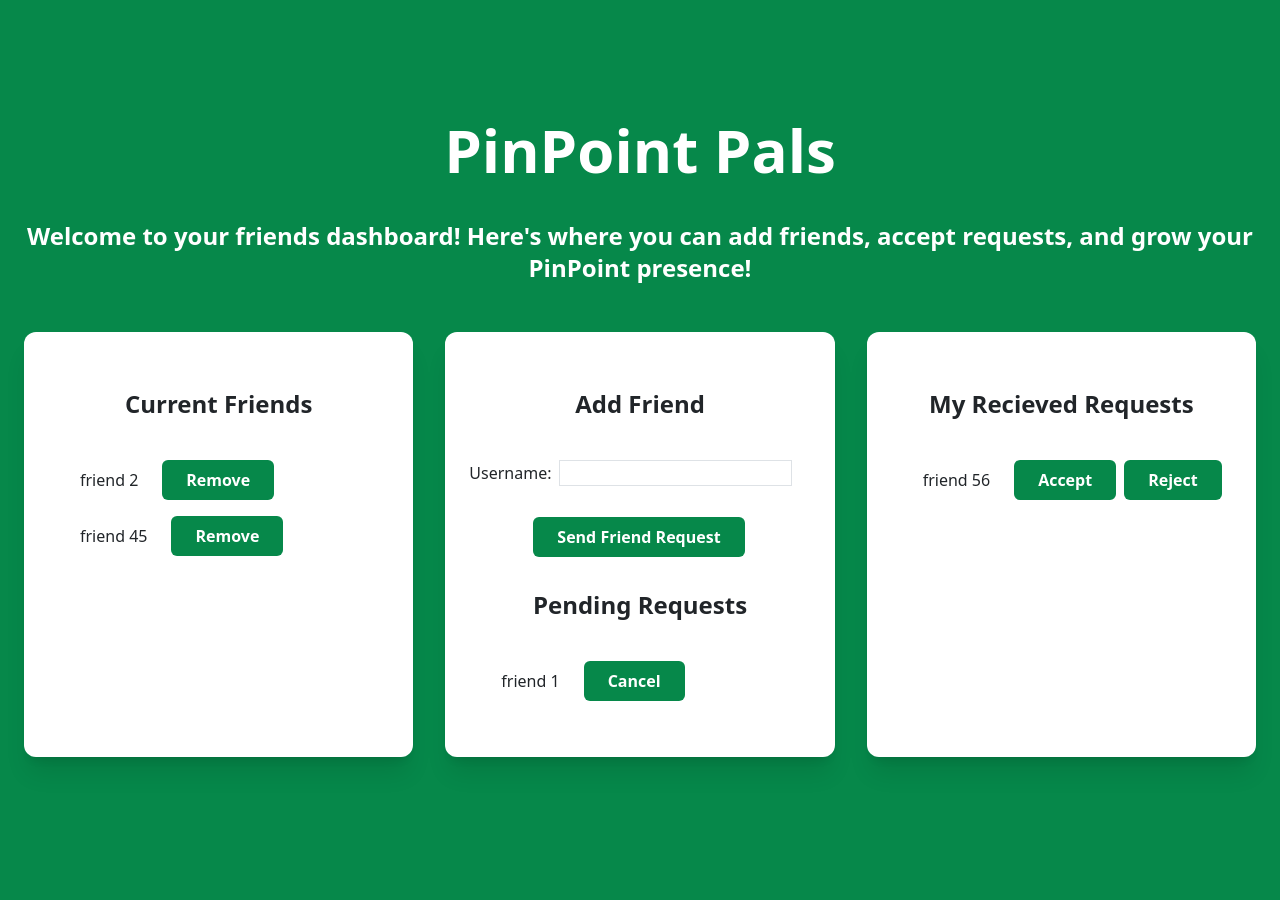
Test: Friends › Cancel outgoing friend request
What coordinates should you click on to do the following:
click the button "Cancel"
I would click on:
 (634, 681)
Its box is [584,661,684,701].
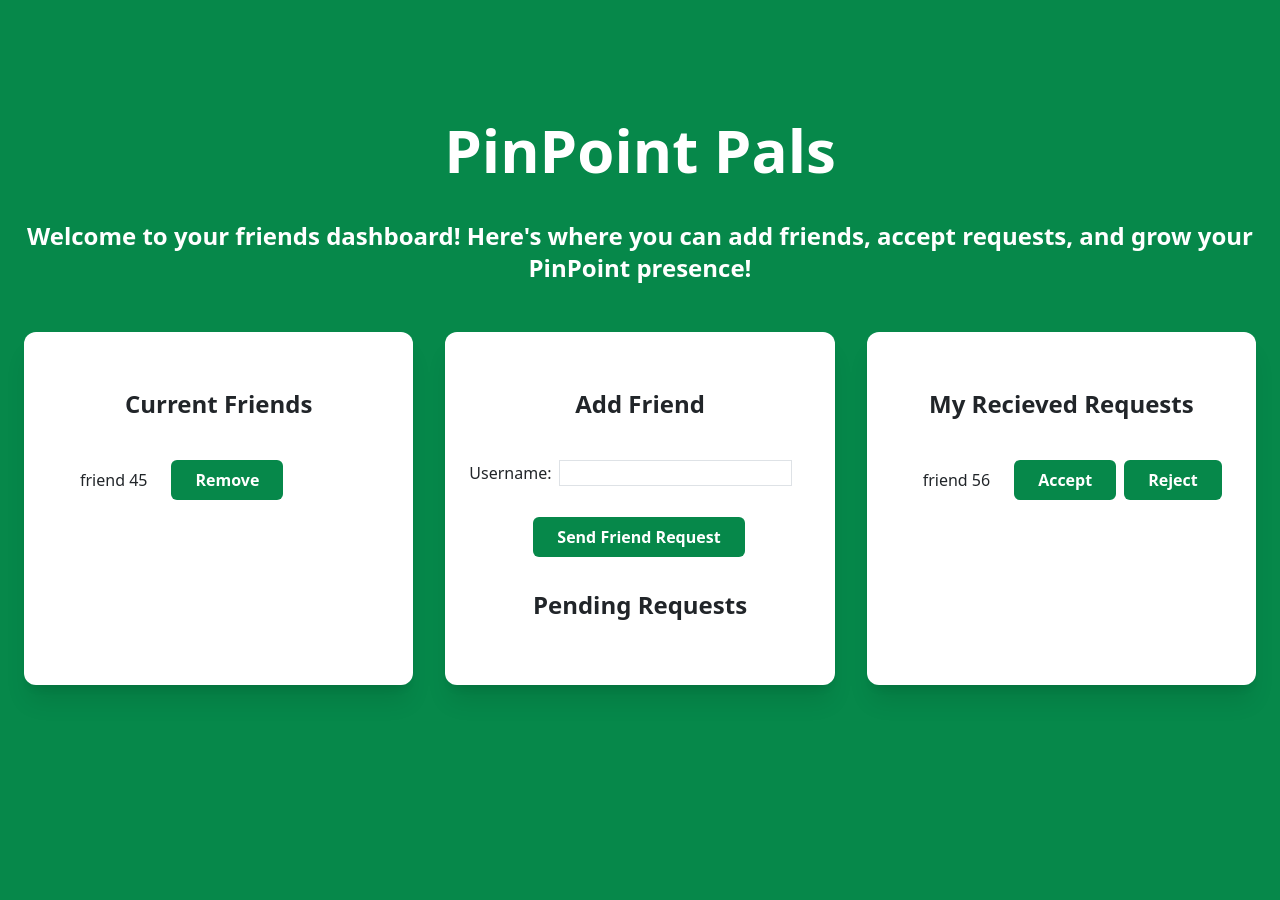
Expected: no buttons "Cancel" are shown
